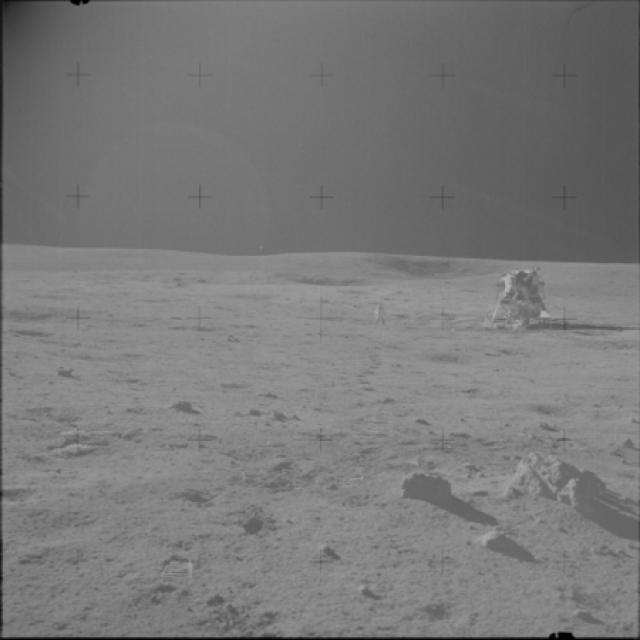crater: (526, 391, 632, 429), (402, 336, 492, 376), (532, 333, 638, 360), (0, 298, 74, 325), (0, 324, 61, 342), (567, 323, 614, 339)
rock: (547, 448, 616, 510), (496, 456, 544, 504), (389, 468, 452, 503), (472, 524, 528, 556), (300, 538, 346, 566), (156, 389, 200, 418), (40, 360, 80, 388)
